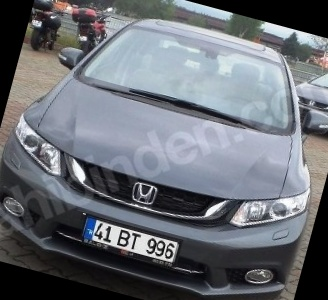plaka: (92, 217, 177, 261)
